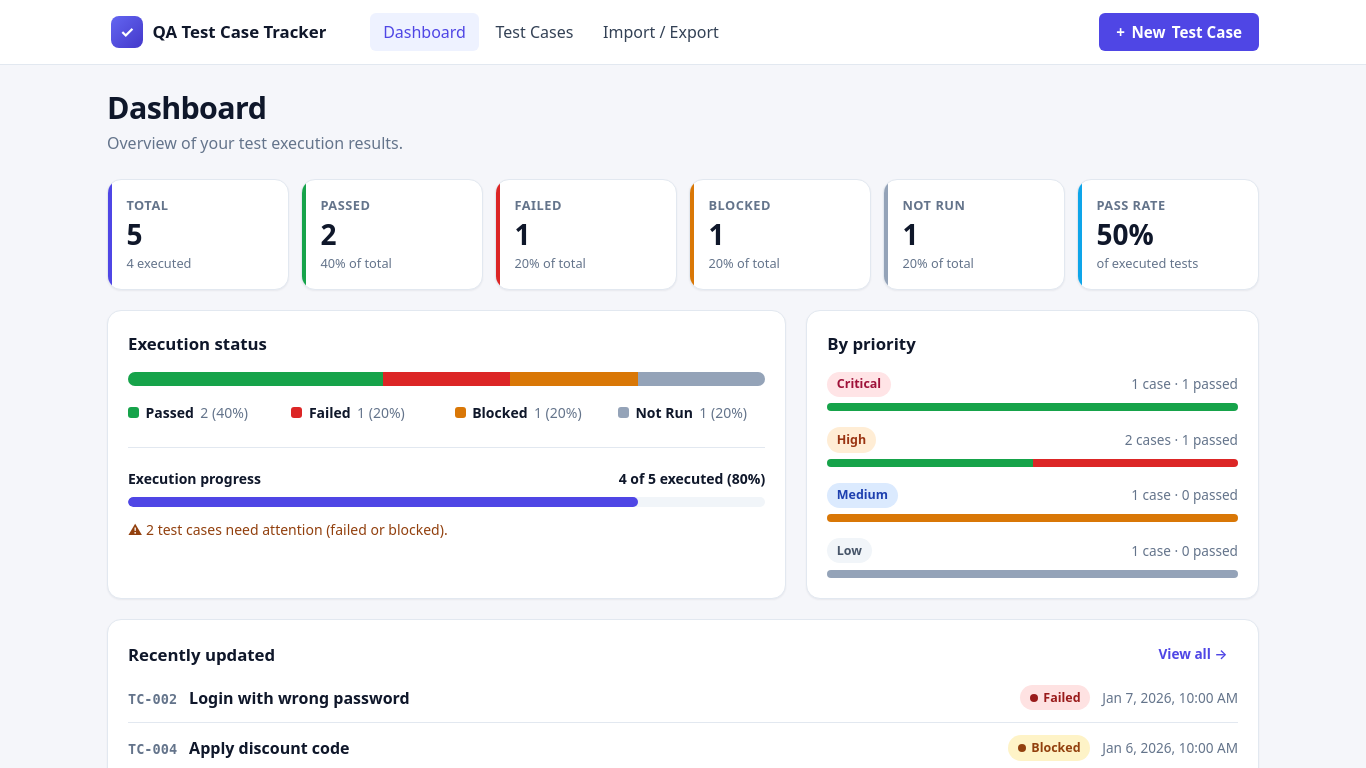
App › changes status from the detail view
Click the button "Test Cases" at (534, 32), box x1=483 y1=13 x2=586 y2=51
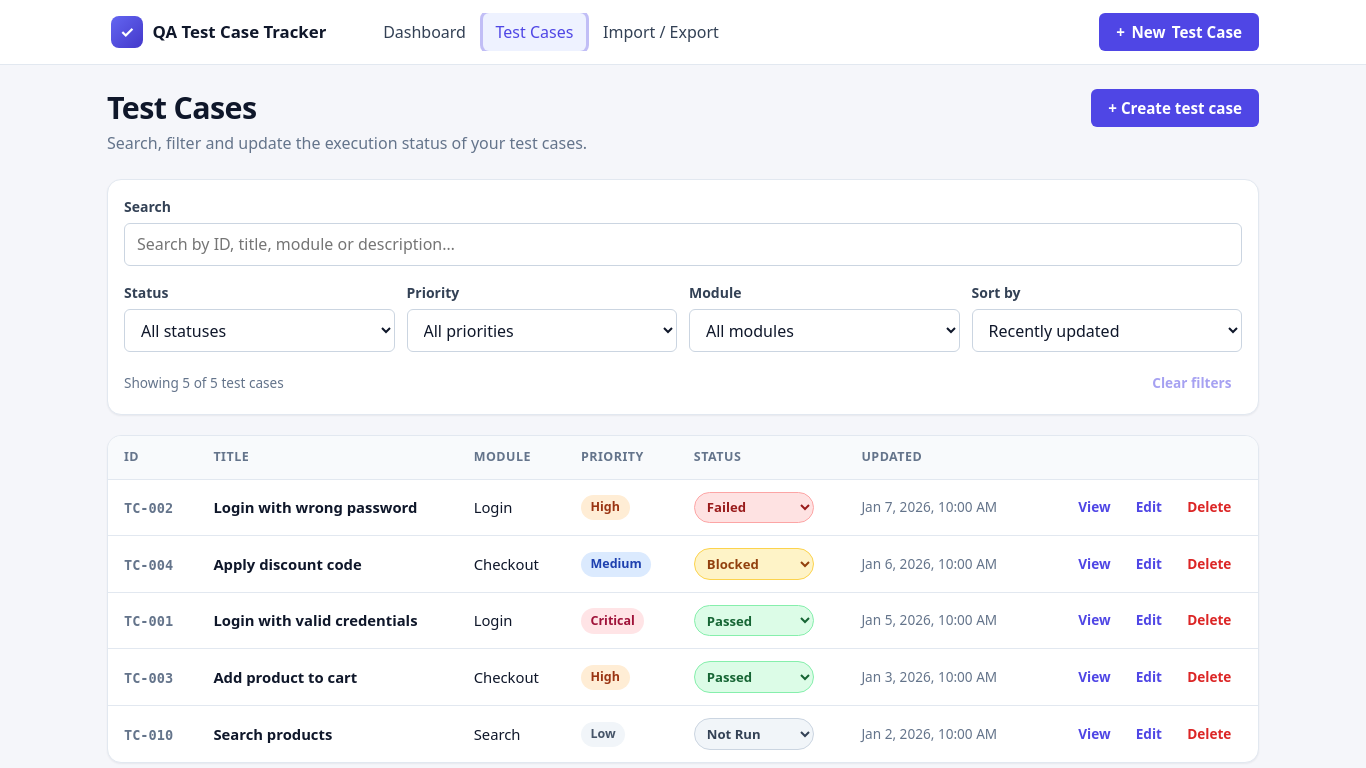
Click the button with aria-label "View TC-004" at (1094, 564), box x1=1068 y1=549 x2=1121 y2=579
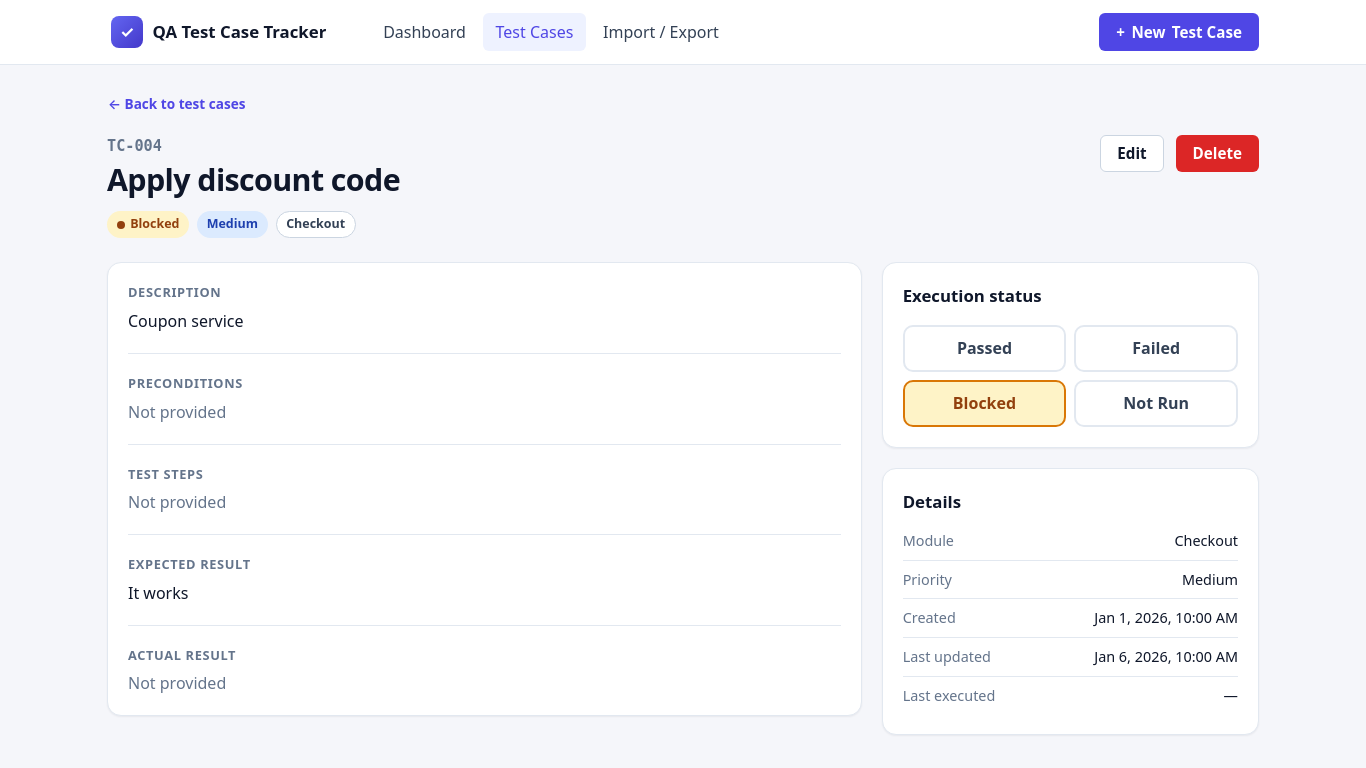
Click the button "Passed" at (985, 348), box x1=903 y1=325 x2=1066 y2=372
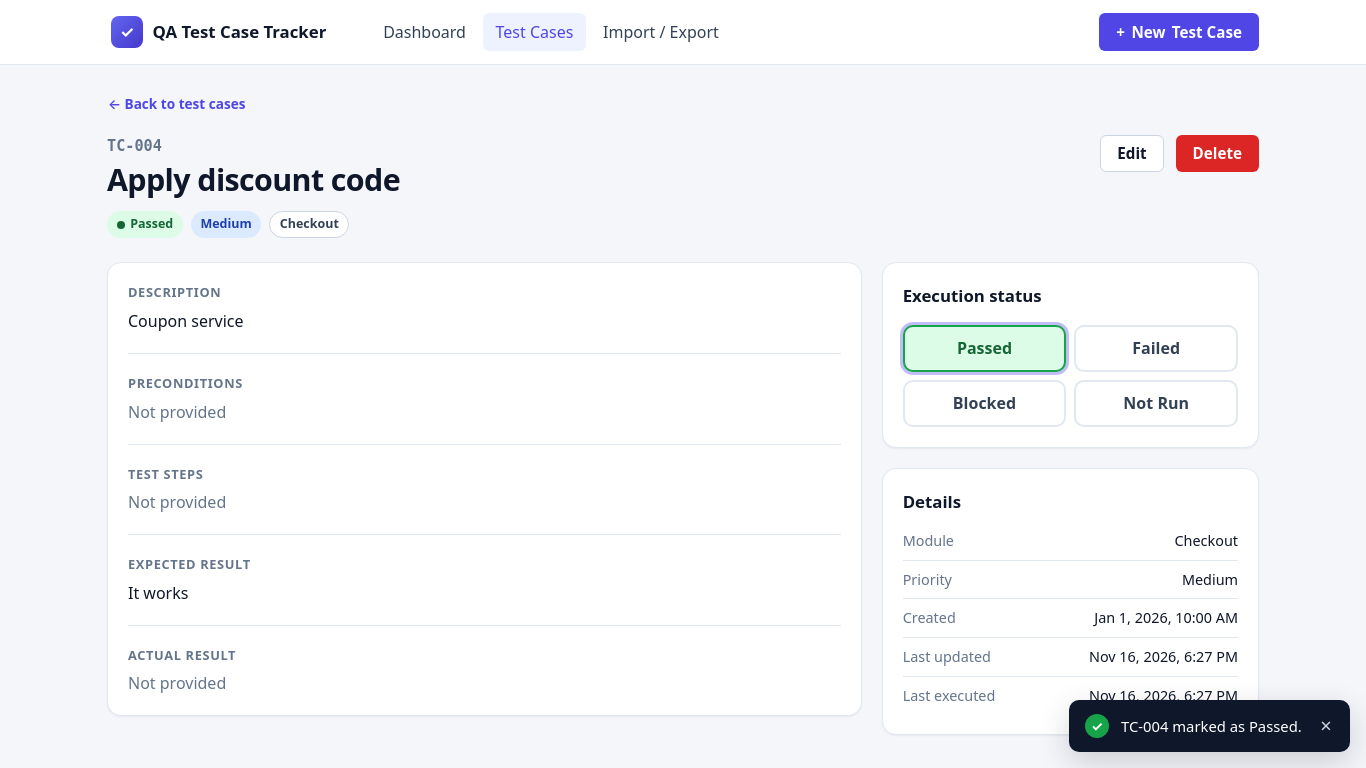
Check: the element showing "Passed" is shown, box x1=107 y1=211 x2=183 y2=238
